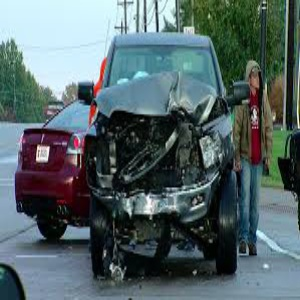bonnet: (103, 75, 221, 124)
bumper: (103, 166, 214, 245)
